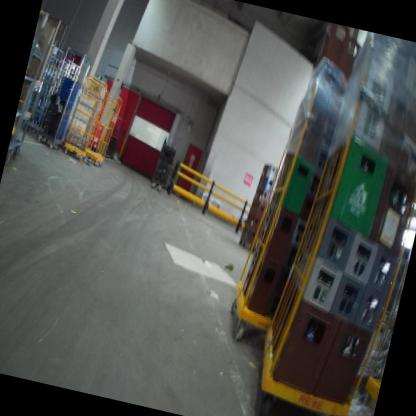pallet_truck: (148, 132, 179, 194)
